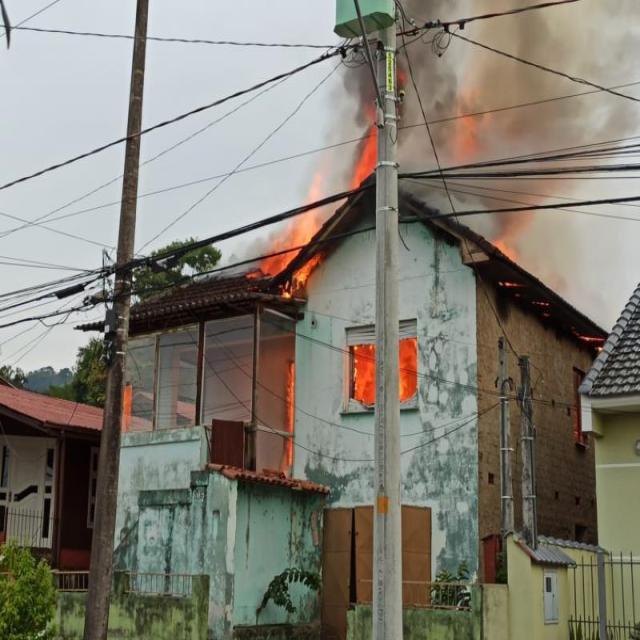smoke: (486, 27, 583, 249)
